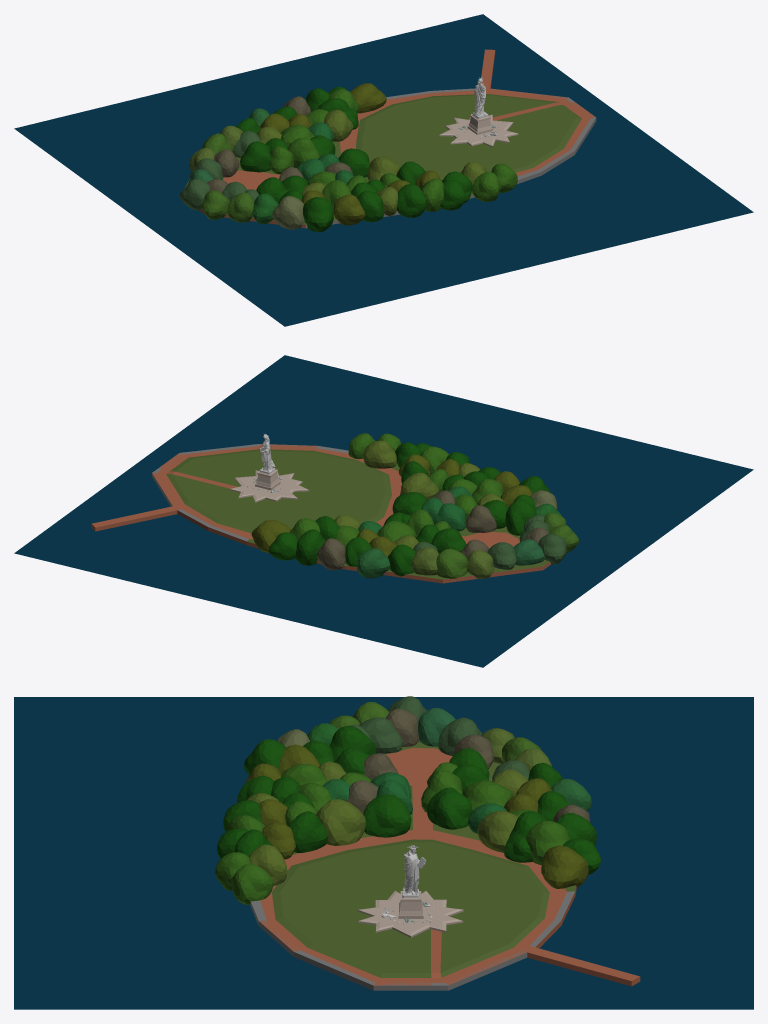
Rendered from EstatLib_fase3.fbx.
3 views of the same model, one above another, from view 1: azimuth 30°, elevation 25°; view 2: azimuth 150°, elevation 25°; view 3: azimuth 270°, elevation 25° (orthographic). The views are drawn at different scales.
Parts seen in each view (by area): view 1: agua, isla, Base.001, Arbusto_020, Arbusto_023.001, Arbusto_017, Arbusto_930, Arbusto_010, Arbusto_047, Arbusto_004, Arbusto_004.001, Arbusto_011.001 (+10 smaller); view 2: agua, isla, Base.001, Arbusto_944.001, Arbusto_040.001, Arbusto_023, Arbusto_940, Arbusto_012, Arbusto_031.001, Arbusto_047, Arbusto_031.002, Arbusto_003 (+10 smaller); view 3: agua, isla, Base.001, Arbusto_003, Arbusto_943, Arbusto_047, Arbusto_018, Arbusto_920, Arbusto_033, Arbusto_021, Arbusto_941, Arbusto_017.001 (+34 smaller).
Part boxes in pixels (x1,y1,x2,y2): agua: (14, 14, 753, 326); isla: (185, 49, 596, 228); Base.001: (439, 113, 518, 147); Arbusto_020: (303, 197, 333, 232); Arbusto_023.001: (272, 196, 304, 229); Arbusto_017: (397, 183, 426, 217); Arbusto_930: (240, 141, 270, 172); Arbusto_010: (333, 194, 365, 225); Arbusto_047: (350, 83, 386, 113); Arbusto_004: (472, 171, 501, 201); Arbusto_004.001: (227, 192, 254, 222); Arbusto_011.001: (179, 179, 210, 210); agua: (14, 355, 753, 667); isla: (91, 444, 550, 583); Base.001: (230, 469, 309, 502); Arbusto_944.001: (436, 548, 467, 578); Arbusto_040.001: (357, 548, 390, 578); Arbusto_023: (363, 440, 396, 468); Arbusto_940: (295, 529, 325, 565); Arbusto_012: (505, 499, 536, 535); Arbusto_031.001: (316, 538, 345, 570); Arbusto_047: (251, 520, 291, 552); Arbusto_031.002: (465, 505, 496, 532); Arbusto_003: (400, 472, 438, 499); agua: (14, 697, 753, 1009); isla: (250, 741, 640, 990); Base.001: (357, 890, 463, 937); Arbusto_003: (316, 799, 365, 845); Arbusto_943: (363, 794, 411, 837); Arbusto_047: (541, 845, 588, 888); Arbusto_018: (231, 863, 273, 904); Arbusto_920: (430, 791, 471, 829); Arbusto_033: (288, 811, 328, 852); Arbusto_021: (477, 810, 518, 852); Arbusto_941: (525, 820, 569, 865); Arbusto_017.001: (359, 717, 402, 753).
Bounding box in the file's own units: 14709 × 1923 × 14709.
